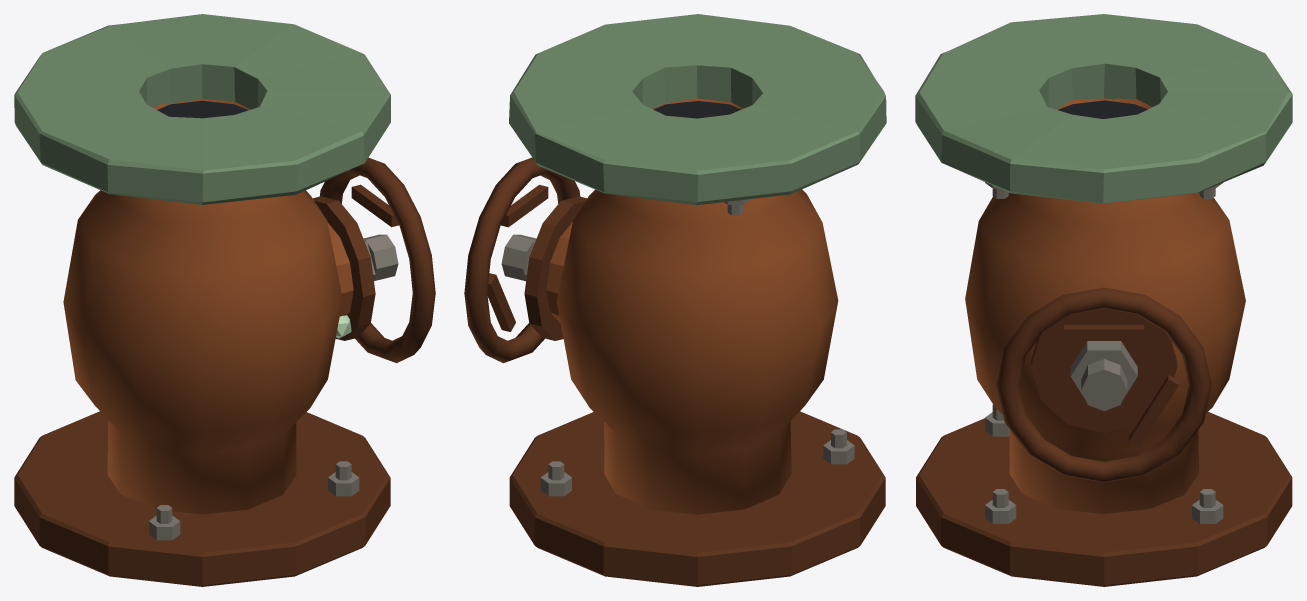
The model's file is valve_scrap.glb.
3 renders of one model, left to right at view 1: azimuth 30°, elevation 25°; view 2: azimuth 150°, elevation 25°; view 3: azimuth 270°, elevation 25°, orthographic.
Visible parts, largest first — view 1: valve_scrap; view 2: valve_scrap; view 3: valve_scrap.
Boxes of the visible parts, left/top/right/bottom form: valve_scrap: left=14, top=14, right=435, bottom=586; valve_scrap: left=464, top=14, right=886, bottom=586; valve_scrap: left=915, top=14, right=1292, bottom=586.
Size of the model in its own units: 0.192 by 0.2206 by 0.1805.
